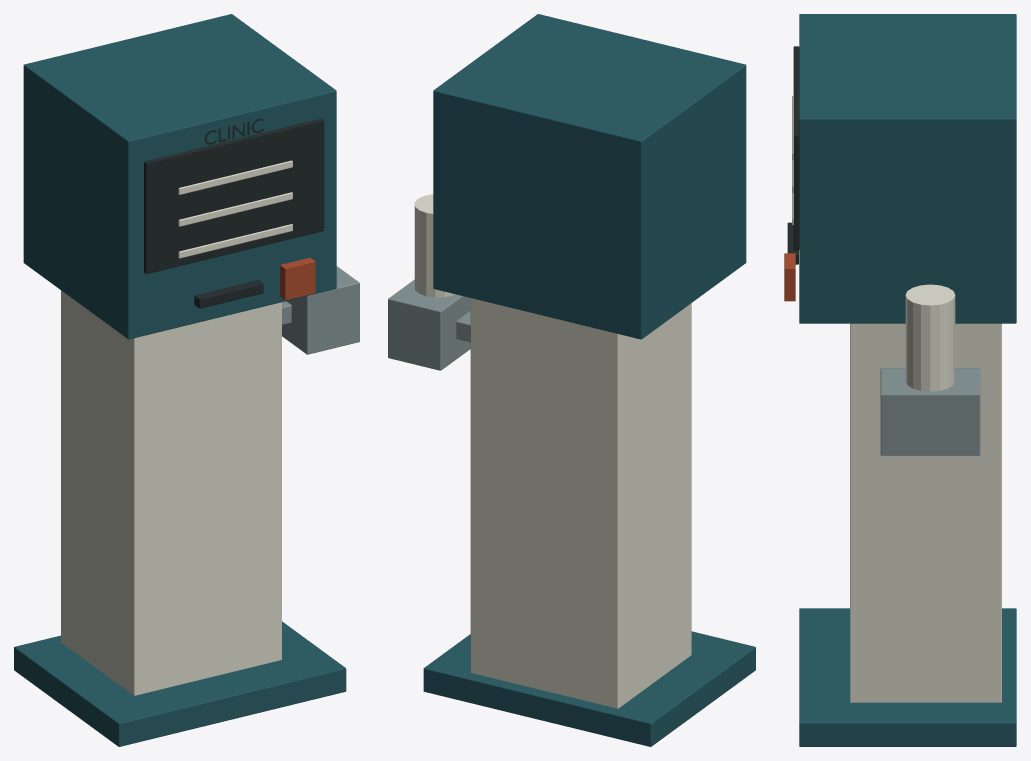
Rendered from source-edit.glb.
3 renders of one model, left to right at view 1: azimuth 30°, elevation 25°; view 2: azimuth 150°, elevation 25°; view 3: azimuth 270°, elevation 25°, orthographic. The views are drawn at different scales.
Parts seen in each view (by area): view 1: Pedestal, Head, Display, Foot, Sanitizer_Holder, Button, Card_Slot, Interface_Line.001, Interface_Line, Interface_Line.002; view 2: Head, Pedestal, Foot, Sanitizer_Holder, Sanitizer_Bottle; view 3: Head, Pedestal, Foot, Sanitizer_Holder, Sanitizer_Bottle, Display, Button.
Part boxes in pixels (bbox=[...]): Pedestal: bbox=[61, 290, 281, 695]; Head: bbox=[23, 14, 336, 339]; Display: bbox=[144, 118, 324, 274]; Foot: bbox=[14, 621, 346, 746]; Sanitizer_Holder: bbox=[282, 266, 359, 354]; Button: bbox=[280, 257, 315, 300]; Card_Slot: bbox=[194, 280, 263, 308]; Interface_Line.001: bbox=[178, 192, 292, 226]; Interface_Line: bbox=[178, 160, 292, 194]; Interface_Line.002: bbox=[178, 224, 292, 258]; Head: bbox=[433, 14, 746, 339]; Pedestal: bbox=[470, 298, 691, 708]; Foot: bbox=[423, 631, 755, 746]; Sanitizer_Holder: bbox=[388, 279, 470, 370]; Sanitizer_Bottle: bbox=[414, 194, 454, 297]; Head: bbox=[799, 14, 1016, 323]; Pedestal: bbox=[850, 323, 1001, 702]; Foot: bbox=[799, 608, 1016, 746]; Sanitizer_Holder: bbox=[880, 368, 980, 455]; Sanitizer_Bottle: bbox=[905, 284, 955, 391]; Display: bbox=[793, 46, 799, 250]; Button: bbox=[784, 253, 795, 301].
Bounding box in the file's own units: 0.74 × 1.52 × 0.5125.
